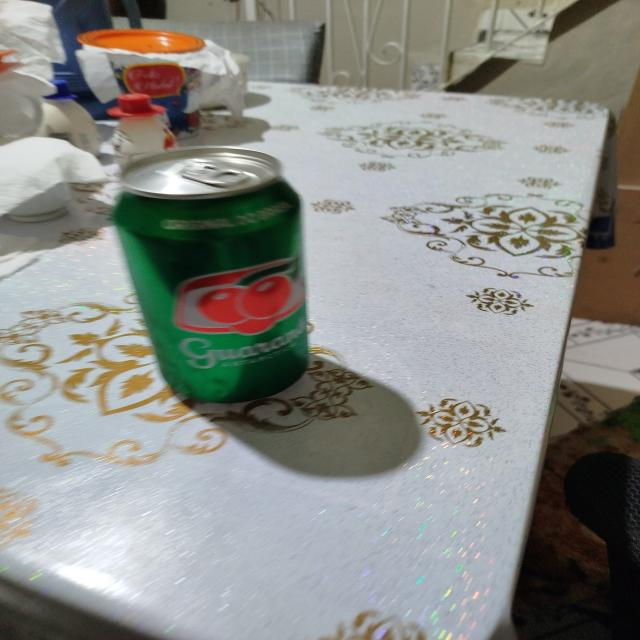Guarana: (114, 155, 317, 398)
